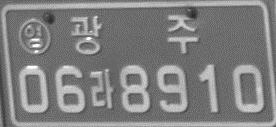0: (231, 63, 264, 112), (17, 65, 49, 115)
1: (194, 64, 227, 113)
6: (54, 64, 85, 114)
8: (118, 64, 151, 113)
9: (156, 63, 188, 113)
광주_D: (69, 15, 199, 55)
라: (89, 68, 115, 109)
영: (17, 17, 50, 55)
